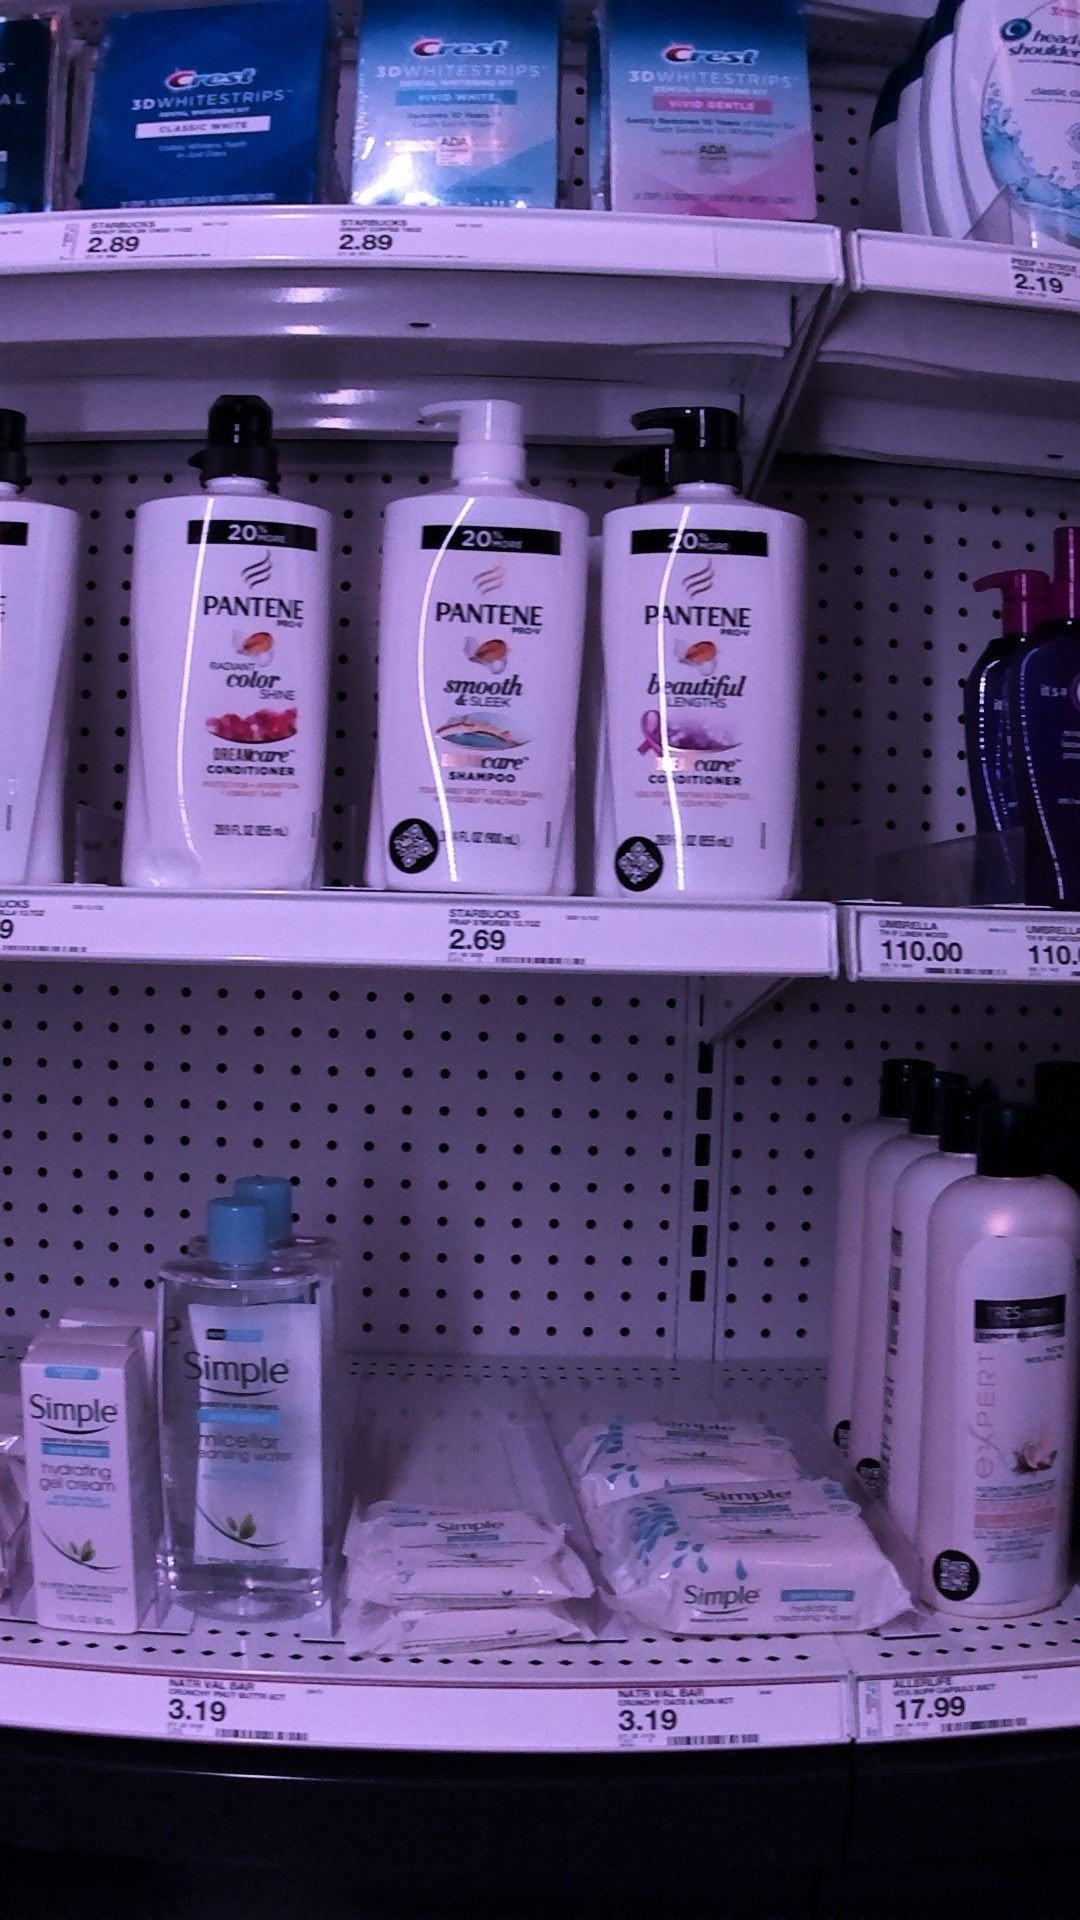ptag: (849, 1669, 1048, 1746), (166, 1665, 313, 1751), (604, 1683, 782, 1753), (442, 899, 603, 971), (851, 906, 1004, 980), (324, 196, 484, 262), (62, 206, 235, 262), (1, 895, 102, 964), (998, 253, 1080, 306)
